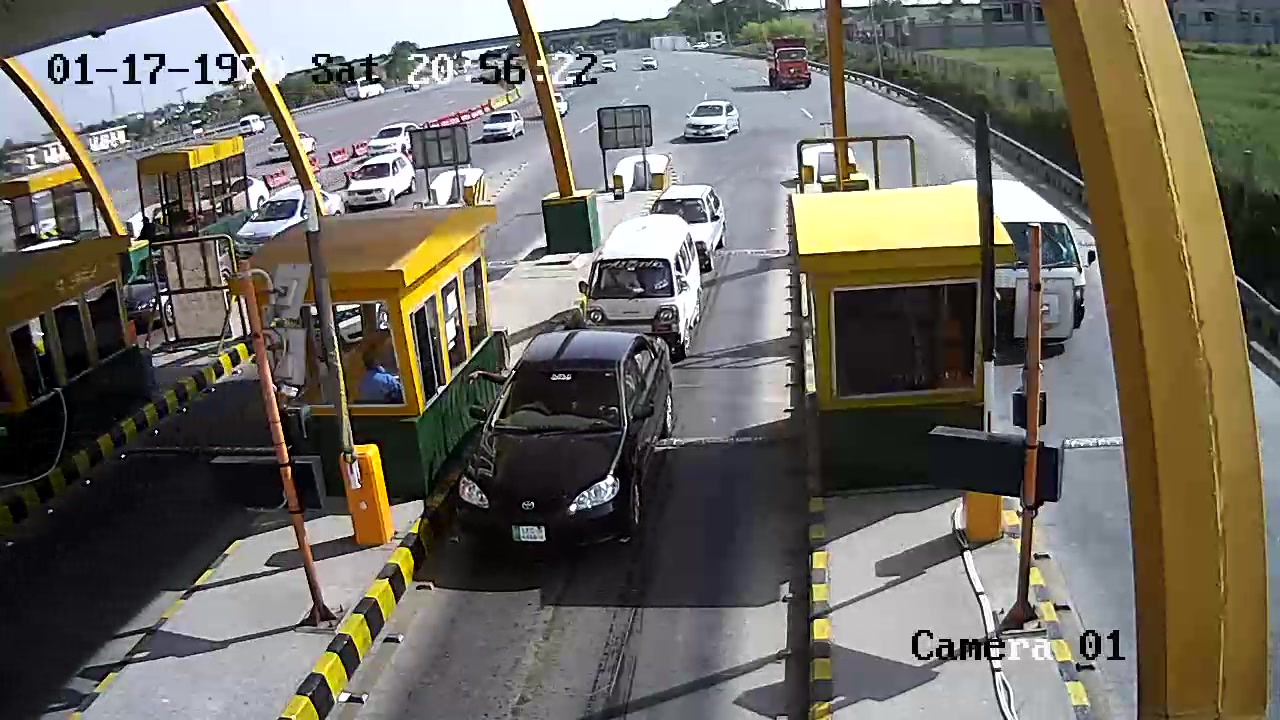F1: (444, 314, 682, 570)
